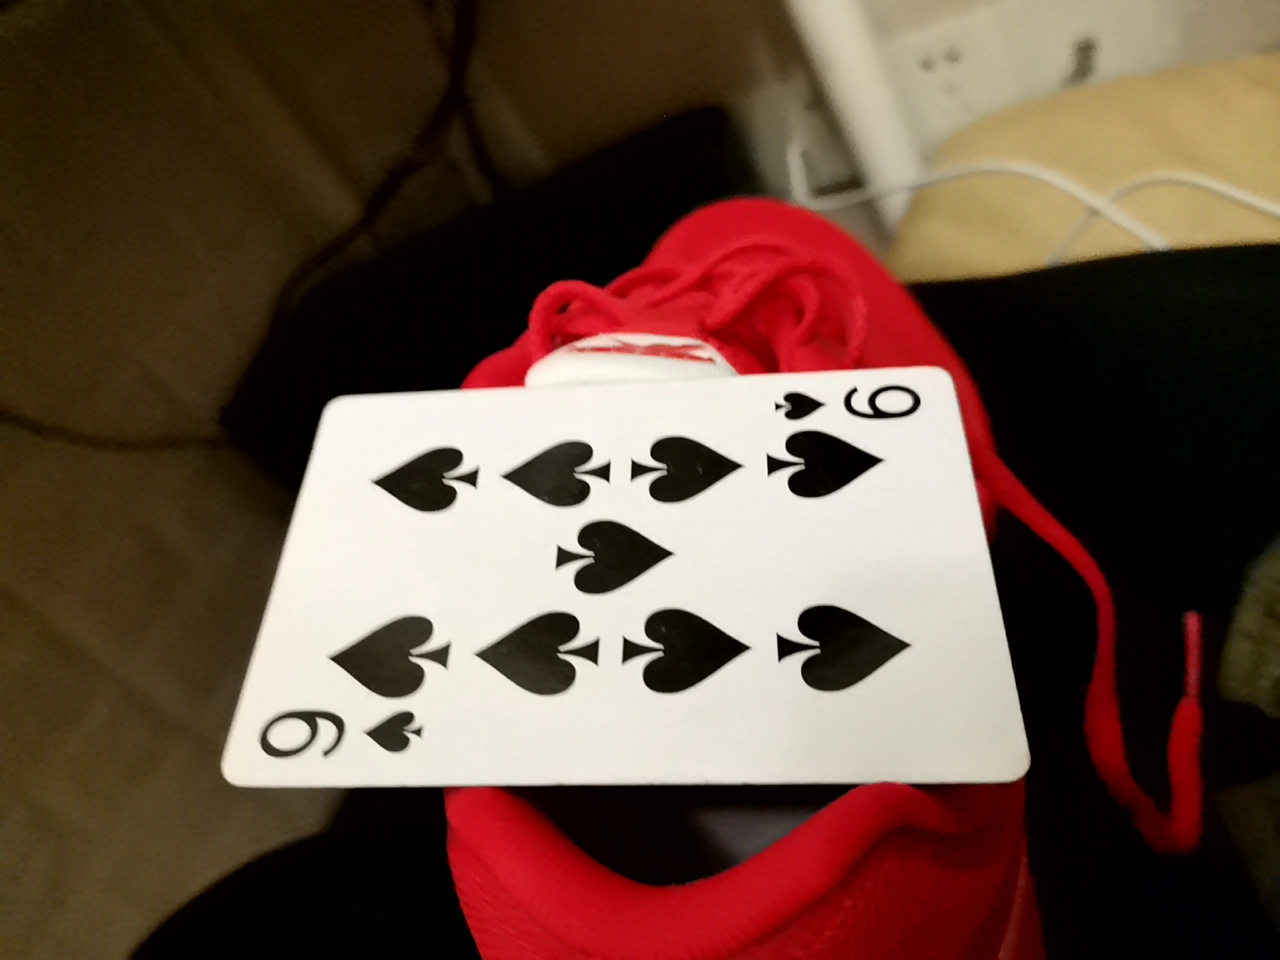ht 9: (209, 352, 1034, 804)
